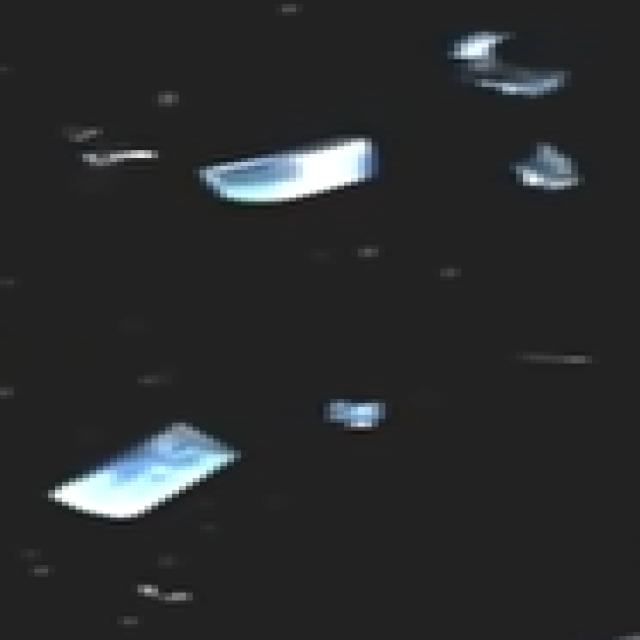medium_debris: (46, 420, 245, 522), (193, 126, 382, 211), (509, 136, 585, 196), (269, 0, 312, 20)
small_debris: (448, 22, 575, 98), (83, 144, 163, 166), (328, 399, 388, 427), (137, 363, 176, 396), (105, 608, 150, 635), (146, 546, 189, 574), (531, 350, 603, 366), (62, 121, 108, 144), (0, 371, 29, 406), (136, 578, 168, 606), (166, 584, 199, 610), (354, 240, 389, 263), (431, 264, 471, 284), (158, 87, 188, 111), (31, 560, 62, 581)
